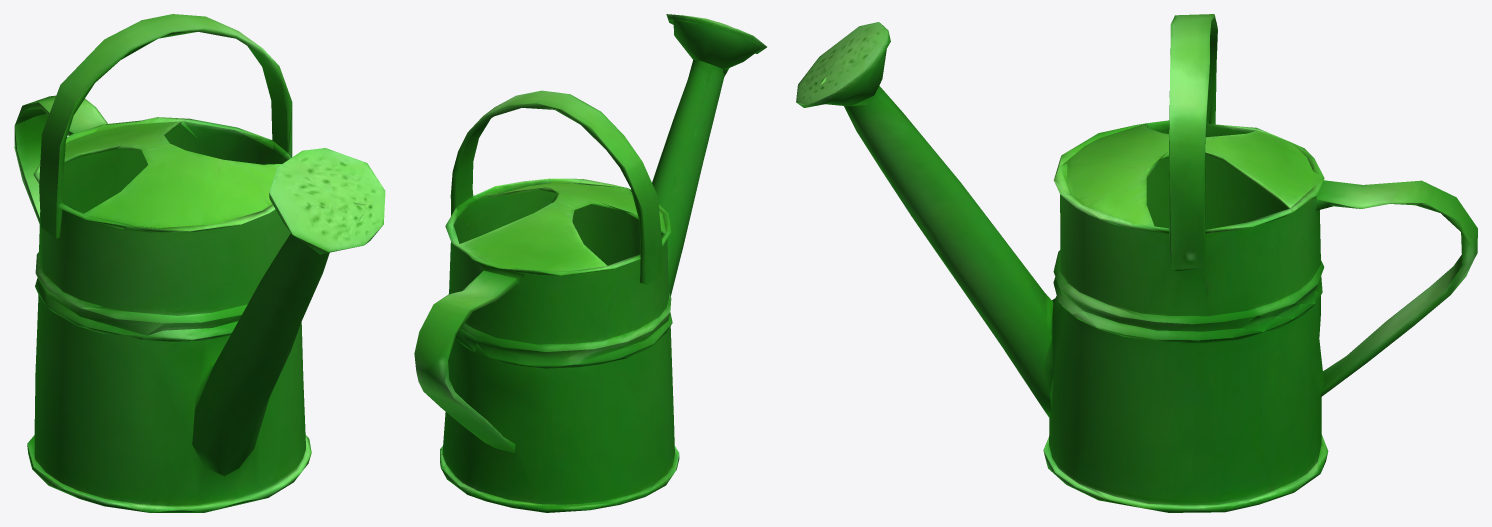
File: wateringCan.glb
3 renders of one model, left to right at view 1: azimuth 30°, elevation 25°; view 2: azimuth 150°, elevation 25°; view 3: azimuth 270°, elevation 25°, orthographic. The views are drawn at different scales.
Visible parts, largest first — view 1: model; view 2: model; view 3: model.
Boxes of the visible parts, box(x1,y1,x2,y2) form: model: box(14, 14, 385, 512); model: box(414, 14, 766, 512); model: box(796, 14, 1477, 512).
Bounding box in the file's own units: 0.784 × 1.31 × 1.89.
1 material, 1 textured.
